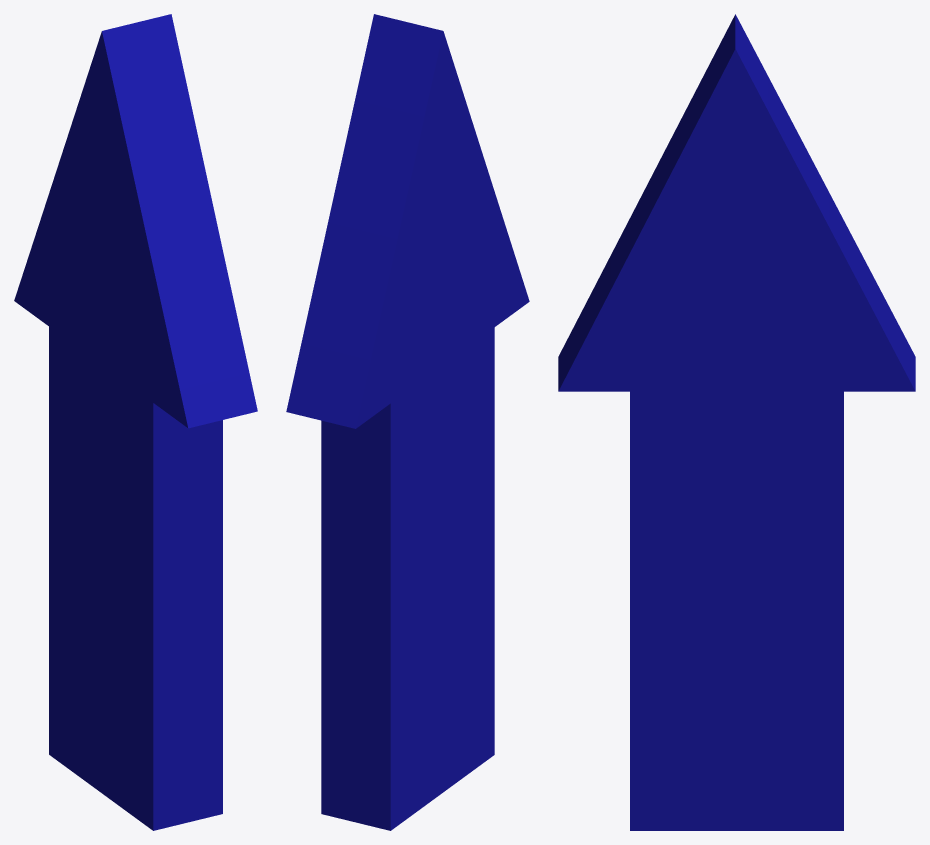
File: arrow.fbx
3 views of the same model, side by side, from view 1: azimuth 30°, elevation 25°; view 2: azimuth 150°, elevation 25°; view 3: azimuth 270°, elevation 25° (orthographic). The views are drawn at different scales.
Parts seen in each view (by area): view 1: Arrow1; view 2: Arrow1; view 3: Arrow1.
Part boxes in pixels (left/top/right/bottom): Arrow1: left=14, top=14, right=257, bottom=830; Arrow1: left=286, top=14, right=529, bottom=830; Arrow1: left=558, top=14, right=915, bottom=830.
Size of the model in its own units: 0.0907 by 0.9498 by 0.3933.
